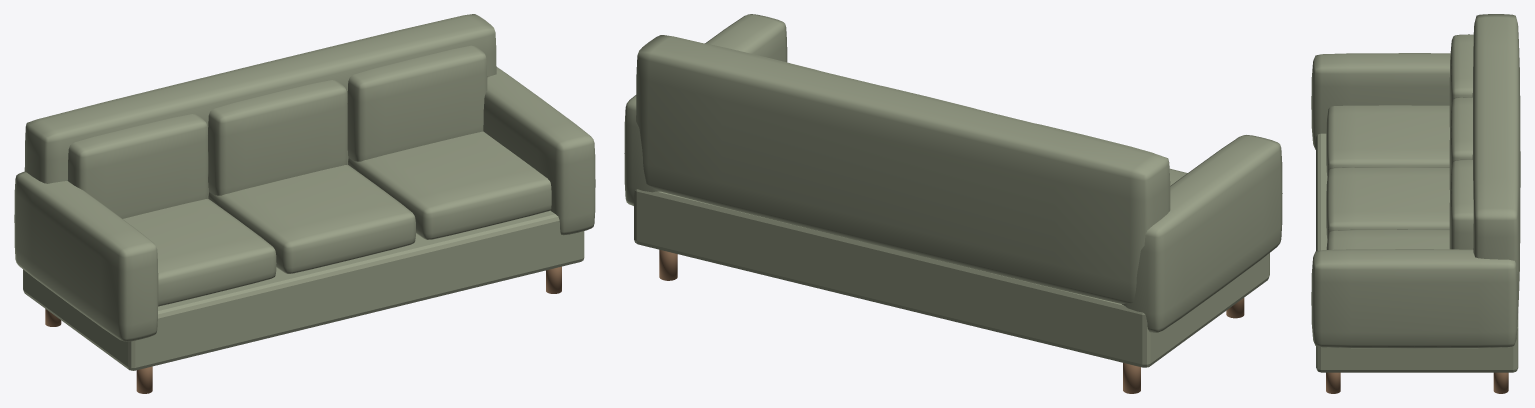
File: sofa_vintage.glb
The picture shows the model from 3 angles, left to right: view 1: azimuth 30°, elevation 25°; view 2: azimuth 150°, elevation 25°; view 3: azimuth 270°, elevation 25°; orthographic projection. The views are drawn at different scales.
Parts seen in each view (by area): view 1: BaseFrame, BackRest, Arm_-1, Seat_0.0, Seat_0.6, BackCush_0.0, BackCush_0.6, BackCush_-0.6, Seat_-0.6, Arm_1; view 2: BackRest, BaseFrame, Arm_-1, Arm_1; view 3: Arm_1, BackRest, Arm_-1, Seat_0.0, Seat_-0.6, BaseFrame, Seat_0.6, BackCush_0.6, BackCush_-0.6, BackCush_0.0, Leg_1_0.34, Leg_1_-0.34.
Part boxes in pixels (box(x1,y1,x2,y2)): BaseFrame: box(23, 210, 584, 370); BackRest: box(24, 14, 496, 198); Arm_-1: box(14, 171, 158, 341); Seat_0.0: box(208, 164, 415, 273); Seat_0.6: box(348, 131, 551, 239); BackCush_0.0: box(208, 80, 347, 195); BackCush_0.6: box(347, 45, 487, 161); BackCush_-0.6: box(67, 114, 208, 218); Seat_-0.6: box(123, 198, 276, 306); Arm_1: box(483, 67, 595, 235); BackRest: box(636, 35, 1170, 304); BaseFrame: box(634, 189, 1269, 367); Arm_-1: box(1122, 135, 1282, 332); Arm_1: box(624, 14, 787, 205); Arm_1: box(1311, 249, 1517, 348); BackRest: box(1472, 14, 1520, 312); Arm_-1: box(1311, 53, 1450, 149); Seat_0.0: box(1326, 167, 1449, 239); Seat_-0.6: box(1326, 105, 1449, 177); BaseFrame: box(1316, 133, 1518, 372); Seat_0.6: box(1326, 229, 1449, 249); BackCush_0.6: box(1449, 159, 1473, 249); BackCush_-0.6: box(1449, 34, 1473, 126); BackCush_0.0: box(1449, 97, 1472, 189); Leg_1_0.34: box(1493, 372, 1508, 393); Leg_1_-0.34: box(1326, 372, 1340, 393).
Bounding box in the file's own units: 2.06 × 0.839 × 0.8481.
